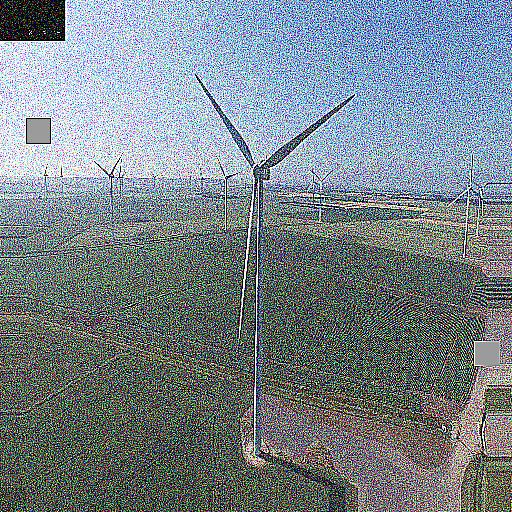wind turbine: (193, 71, 358, 461), (443, 160, 492, 260), (93, 154, 129, 239), (213, 156, 242, 227)
